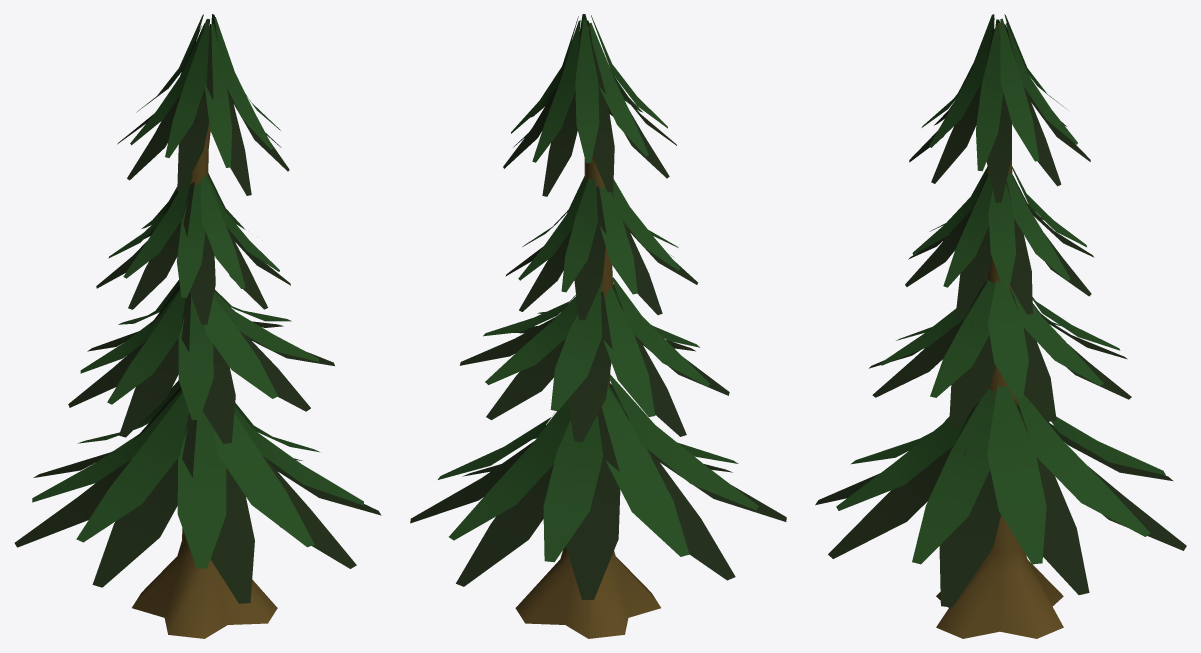
File: Fir4_3.fbx
3 renders of one model, left to right at view 1: azimuth 30°, elevation 25°; view 2: azimuth 150°, elevation 25°; view 3: azimuth 270°, elevation 25°, orthographic.
Visible parts, largest first — view 1: Fir3; view 2: Fir3; view 3: Fir3.
Part boxes in pixels (box(x1,y1,x2,y2)): Fir3: box(14, 14, 381, 638); Fir3: box(410, 14, 786, 638); Fir3: box(815, 14, 1186, 638).
Bounding box in the file's own units: 683 × 1213 × 684.
